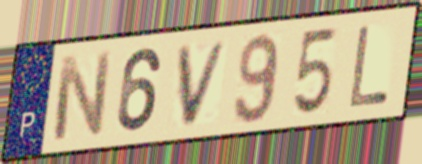5: (291, 26, 339, 118)
6: (115, 45, 163, 136)
9: (231, 30, 282, 126)
L: (346, 23, 392, 111)
N: (50, 49, 114, 144)
V: (175, 37, 232, 129)
